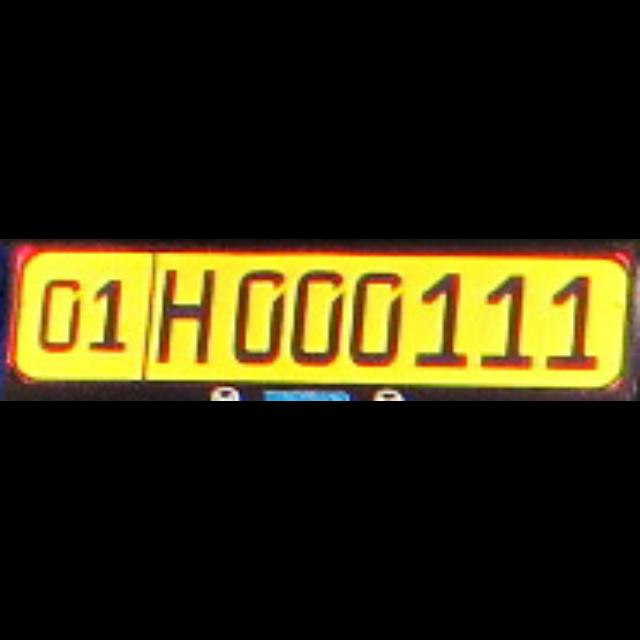0: (229, 266, 277, 360), (290, 266, 336, 364), (350, 270, 398, 360), (35, 276, 73, 350)
1: (481, 270, 529, 364), (543, 274, 591, 366), (415, 270, 463, 360), (87, 276, 125, 350)
H: (156, 266, 208, 360)
